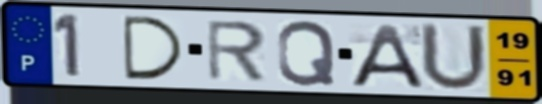1: (49, 12, 86, 80)
A: (346, 22, 427, 90)
D: (119, 13, 189, 82)
Q: (274, 18, 338, 88)
R: (203, 18, 269, 83)
U: (417, 20, 492, 94)
